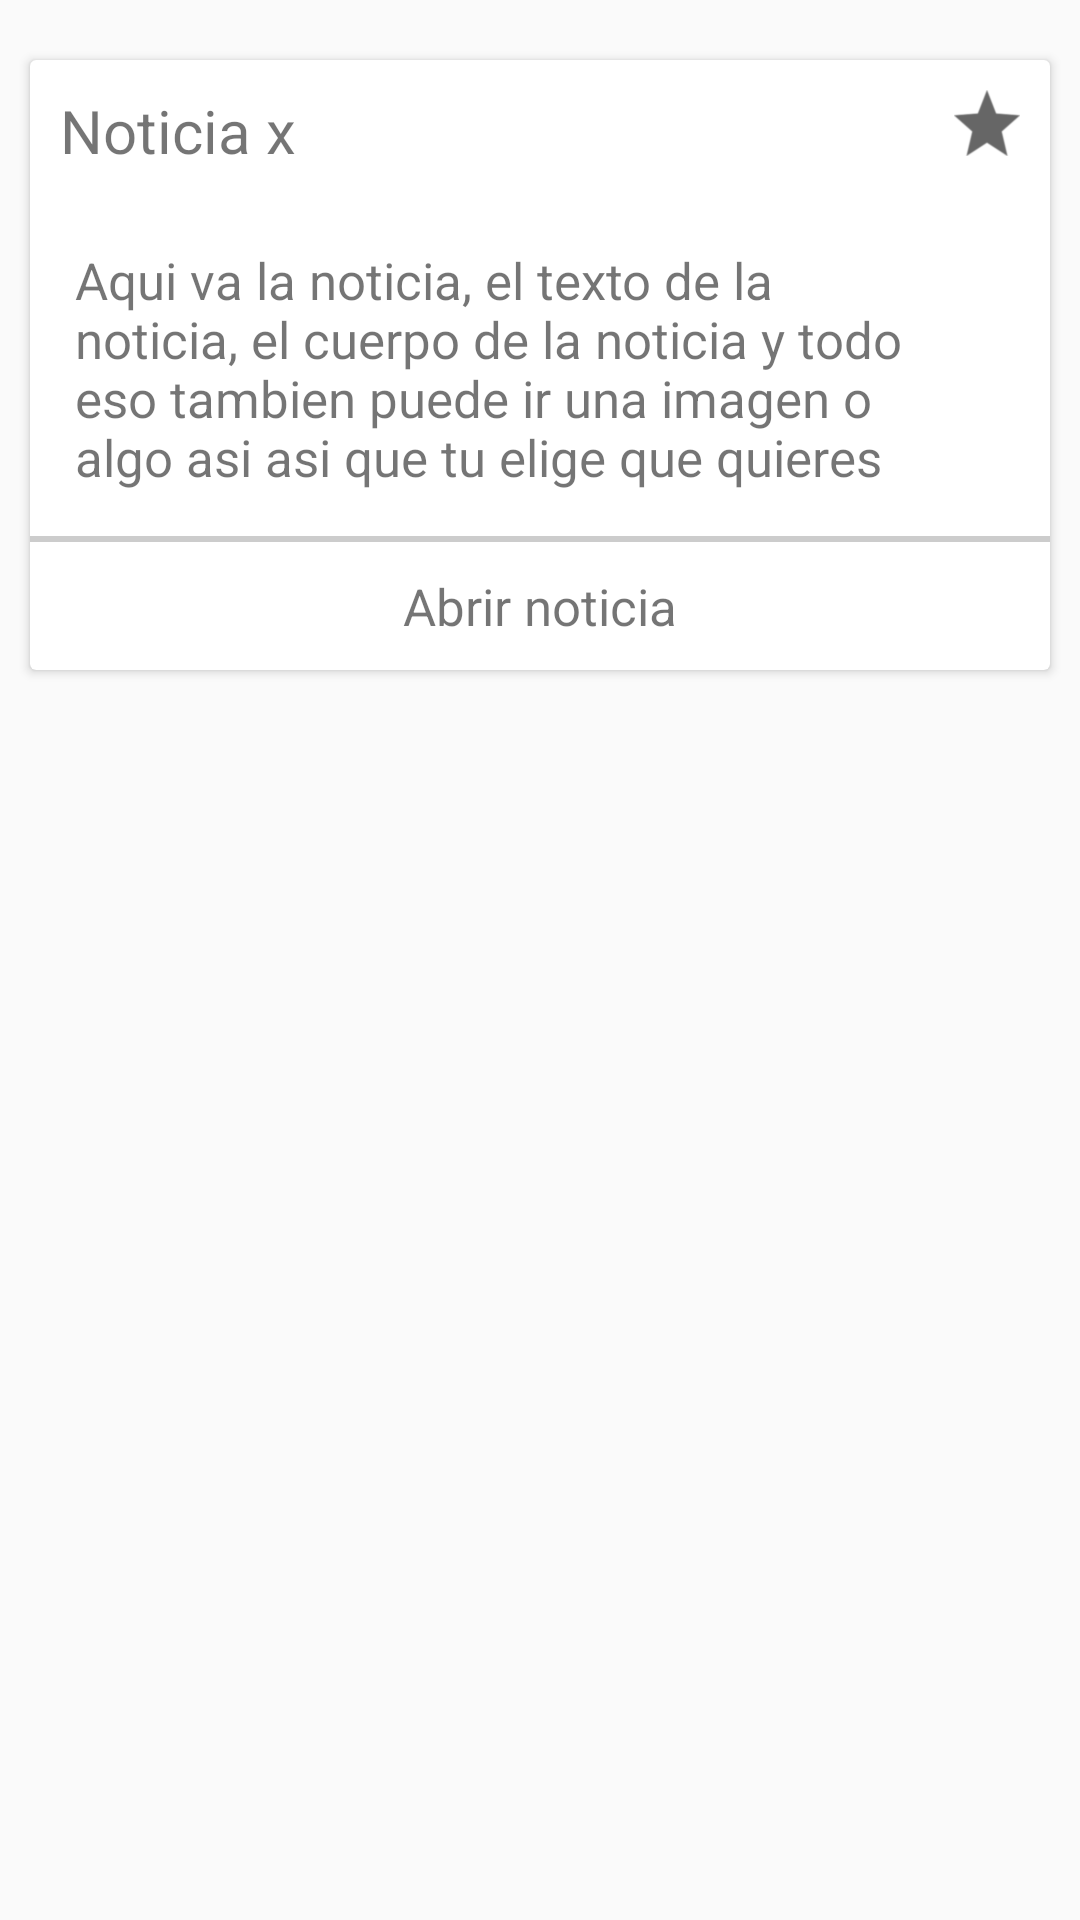

Icon click points for this 1080x1920 phone screenshot, format point (x, y):
star: point (987, 123)
